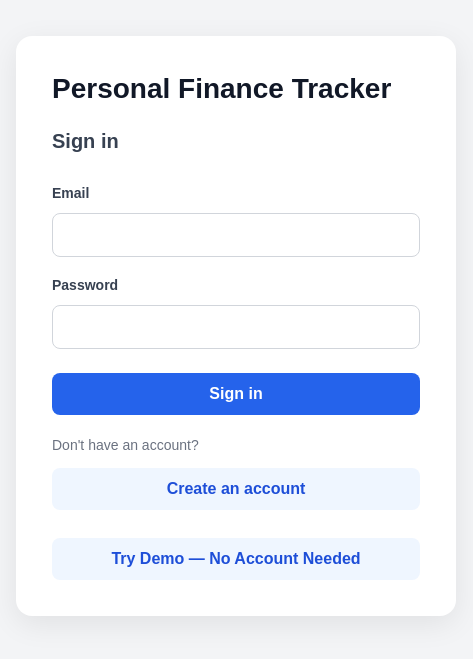
Test: shows an error and stays on login after incorrect credentials
In the field labelled "Email": (236, 235) top-left (52, 213), bottom-right (420, 257), type "test@example.com"
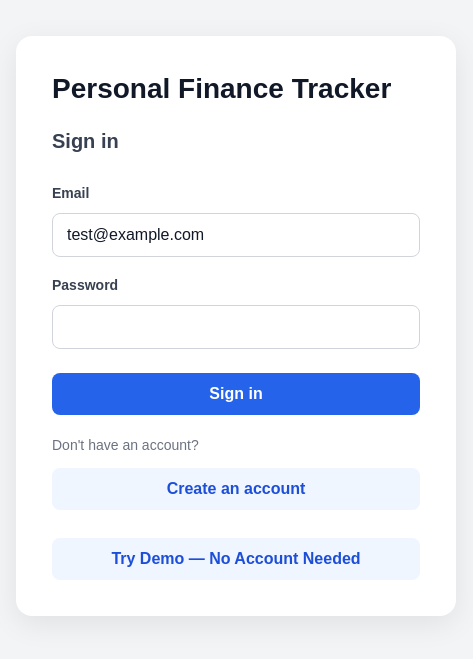
In the password field labelled "Password": (236, 327) top-left (52, 305), bottom-right (420, 349), type "wrong-password"
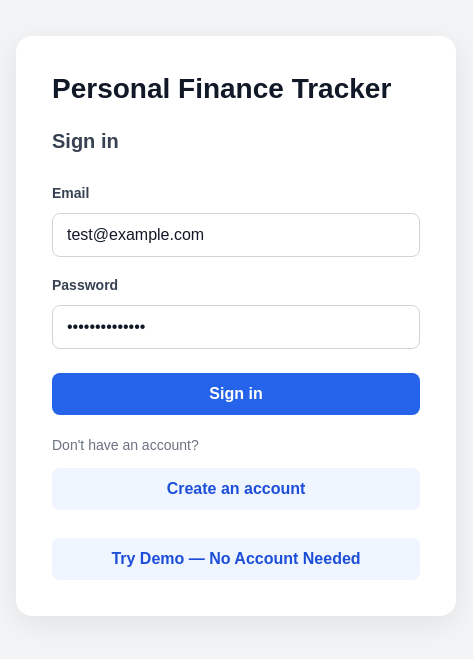
Click the button "Sign in": click(236, 394) top-left (52, 373), bottom-right (420, 415)
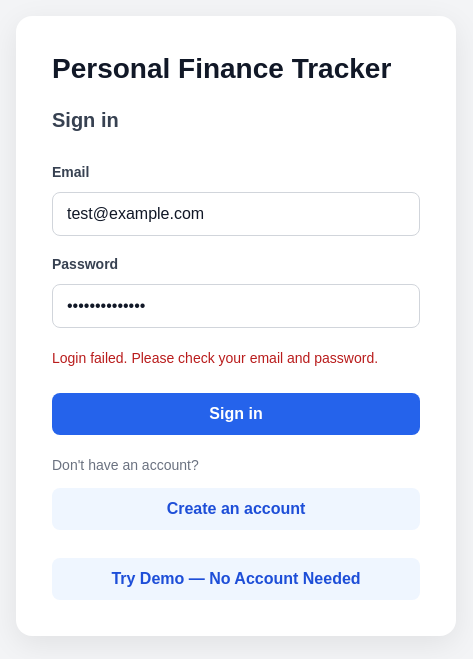
Expected: the heading "Sign in" is shown, top-left (52, 109), bottom-right (119, 131)
Now the message reads "Login failed. Please check your email and password.", box top-left (52, 350), bottom-right (378, 366)
